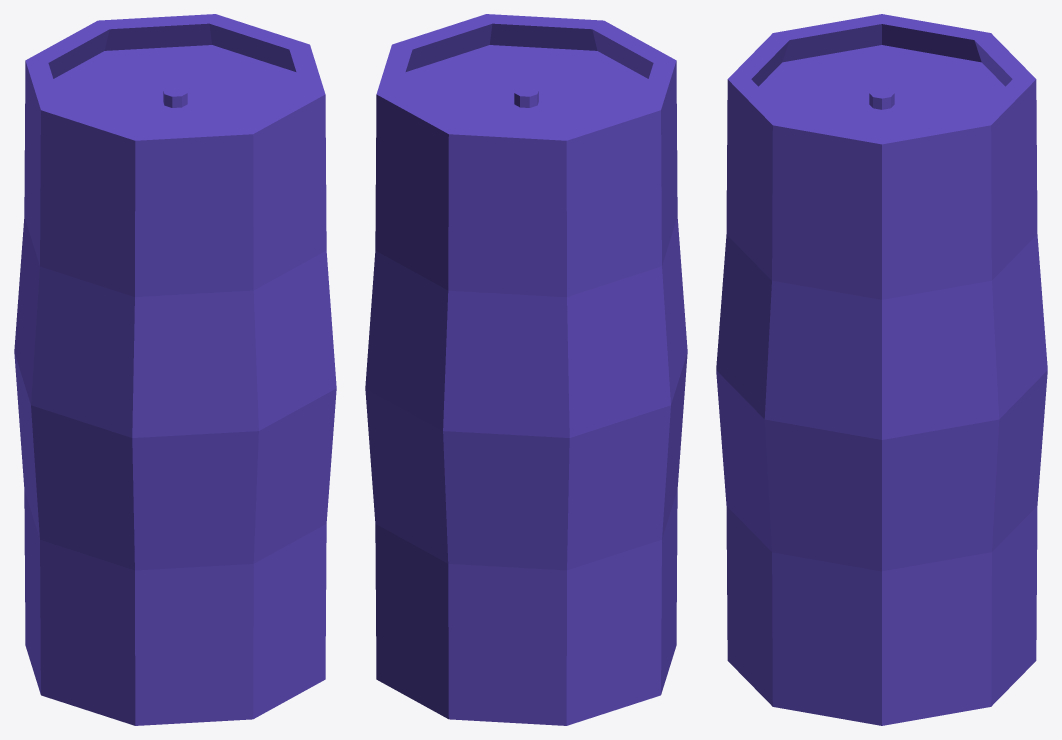
File: candelablu 1.fbx
3 views of the same model, side by side, from view 1: azimuth 30°, elevation 25°; view 2: azimuth 150°, elevation 25°; view 3: azimuth 270°, elevation 25° (orthographic).
Visible parts, largest first — view 1: Cylinder.002; view 2: Cylinder.002; view 3: Cylinder.002.
Boxes of the visible parts, x1,y1,x2,y2 form: Cylinder.002: (14, 14, 336, 725); Cylinder.002: (365, 14, 687, 725); Cylinder.002: (716, 14, 1047, 725).
Size of the model in its own units: 10.71 by 20.73 by 10.71.
